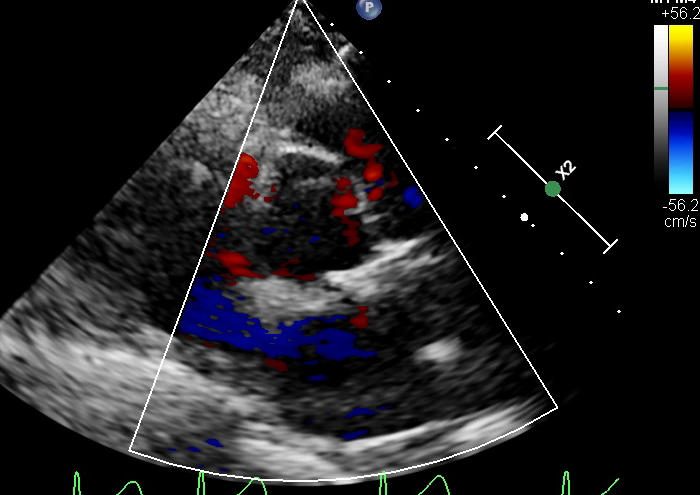TR: (197, 270, 271, 335)
